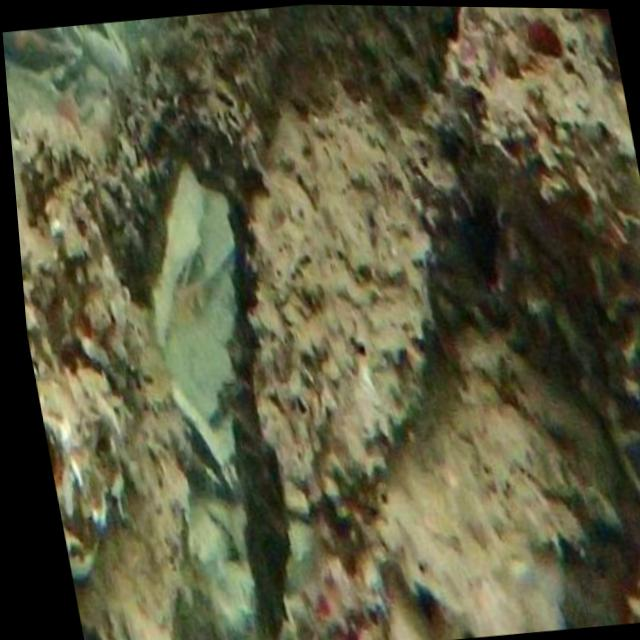Oyster-Indeterminate: (246, 105, 429, 497), (17, 179, 130, 585), (79, 297, 187, 640)
Oyster-Open: (176, 388, 235, 509)
